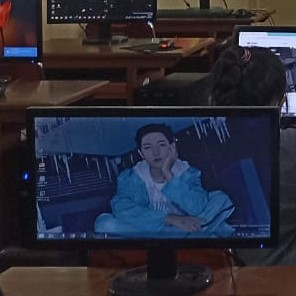monitor: (17, 106, 282, 251), (232, 25, 295, 114), (46, 0, 158, 44), (0, 0, 43, 63)
